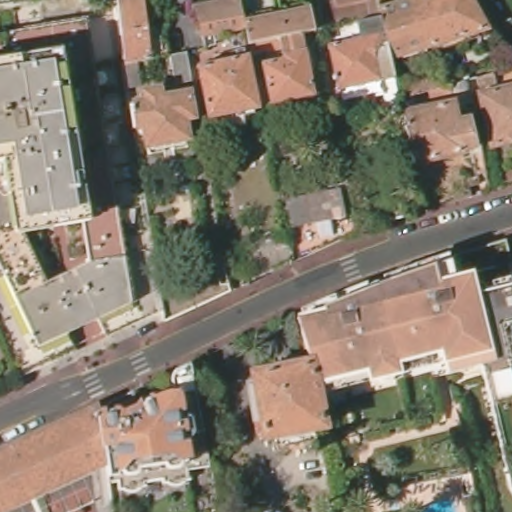pool: (407, 493, 465, 510)
